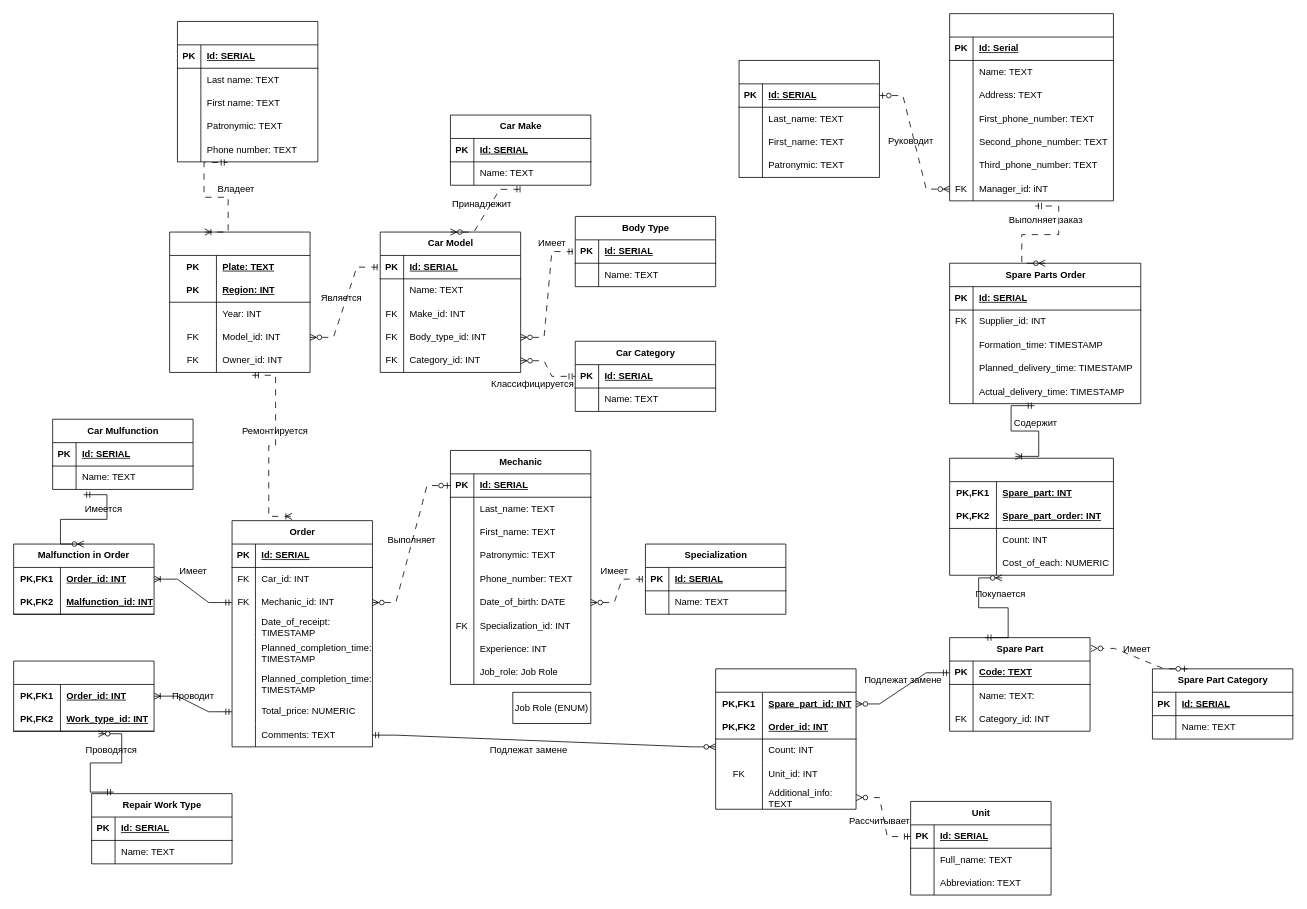
Image size: 1307x909. Some labels were removed from this diagram. Each missing label, with the box of its shape:
Car: (169, 231, 310, 372)
Car Owner: (177, 21, 318, 162)
Repair Work in Order: (13, 660, 154, 731)
Spare Part In Order: (715, 668, 856, 809)
Spare Part in Spare Parts Order: (949, 457, 1113, 575)
Spare Parts Supplier: (949, 13, 1113, 201)
Supplier Manager: (738, 60, 879, 177)
